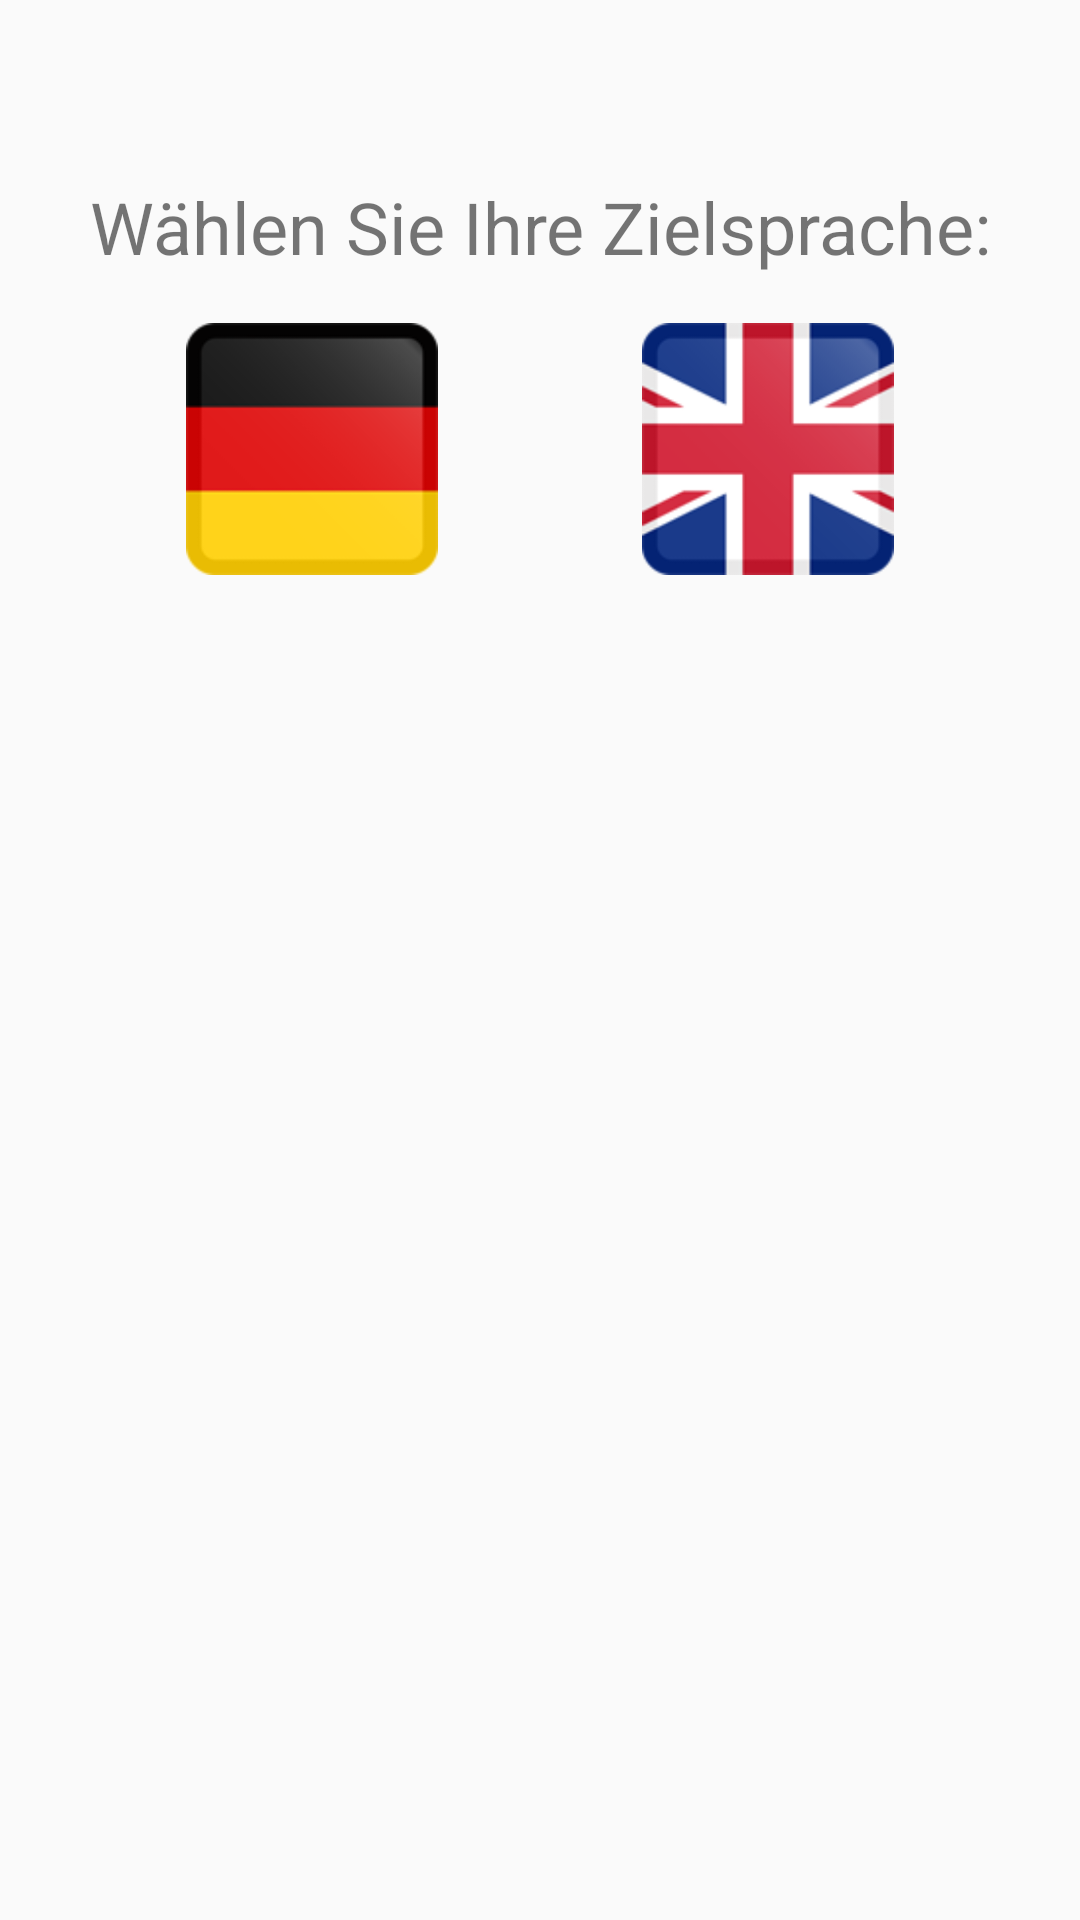

Icon bounding boxes for this 1080w x 1920h phone screenshot, format (x1,y1,x2,y2):
Deutsch ist Zielsprache: (186,323,438,575)
Englisch ist Zielsprache: (642,323,894,575)
